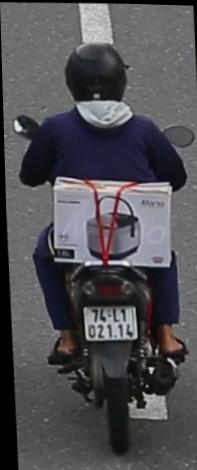LP: (78, 299, 139, 344)
helmet: (63, 35, 136, 124)
